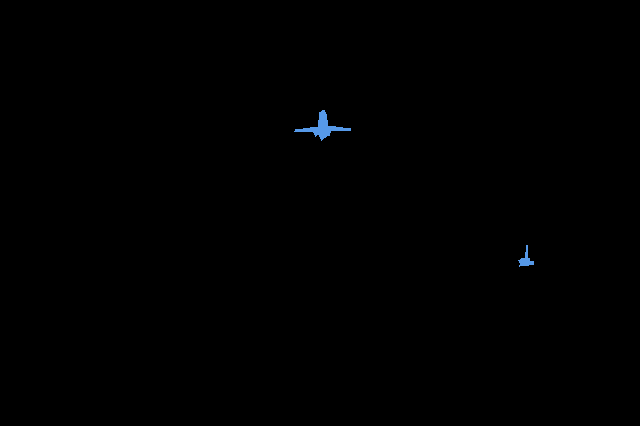Airplane: (294, 110, 351, 141), (518, 245, 534, 266)
